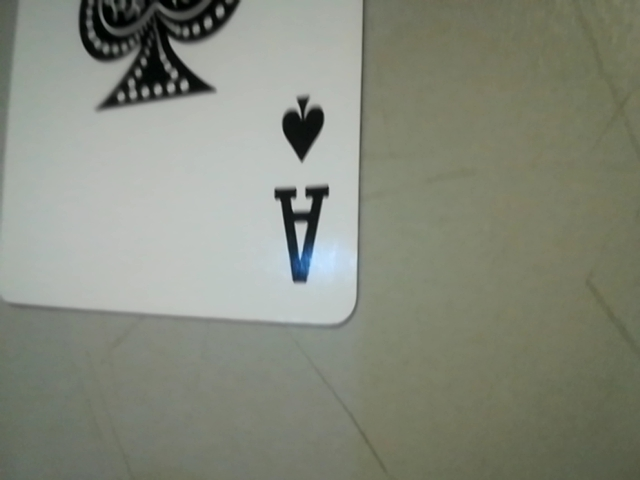ht a: (260, 73, 344, 308)
